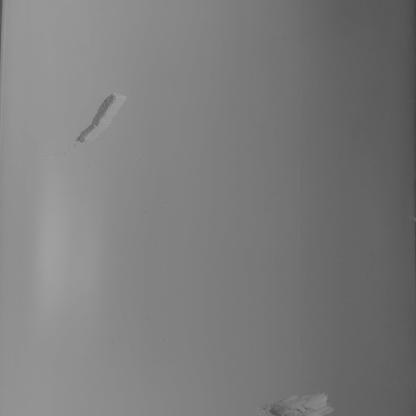sunshang: (74, 93, 124, 143), (262, 395, 336, 416)
